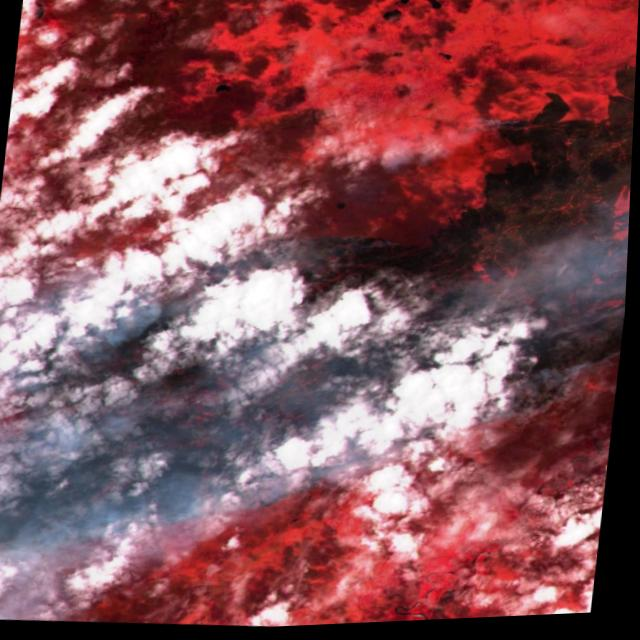fire: (0, 192, 633, 606), (476, 104, 538, 148)
